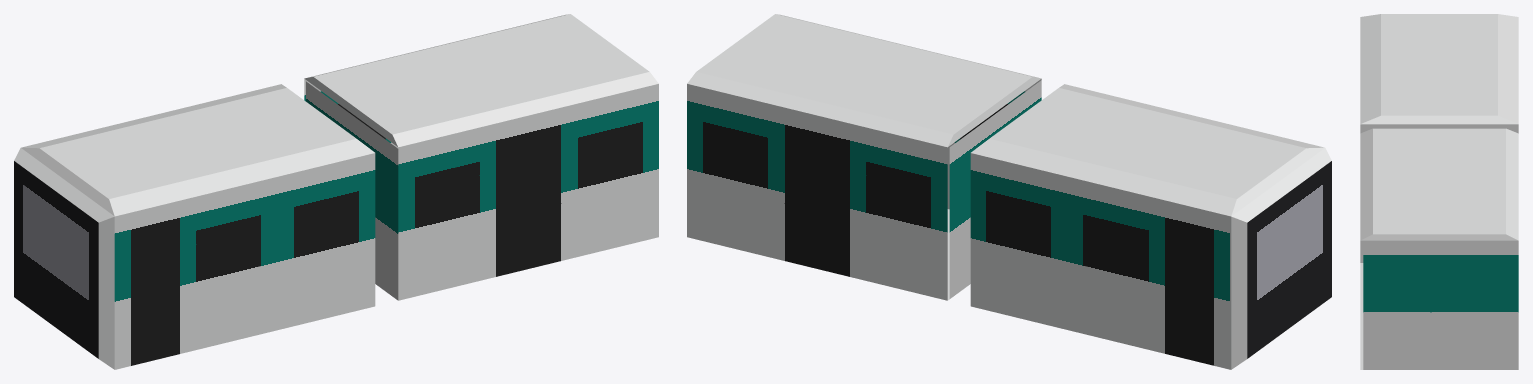
The model's file is MiniMetro.fbx.
3 renders of one model, left to right at view 1: azimuth 30°, elevation 25°; view 2: azimuth 150°, elevation 25°; view 3: azimuth 270°, elevation 25°, orthographic. The views are drawn at different scales.
Visible parts, largest first — view 1: mesh, mesh_1; view 2: mesh, mesh_1; view 3: mesh_1, mesh.
Part boxes in pixels (x1,y1,x2,y2): mesh: (14, 84, 375, 369); mesh_1: (304, 14, 658, 300); mesh: (970, 84, 1331, 369); mesh_1: (687, 14, 1041, 300); mesh_1: (1360, 128, 1518, 369); mesh: (1360, 14, 1518, 133).
Bounding box in the file's own units: 213 × 58.75 × 62.5.
Materials: 1 (1 with a texture image).
